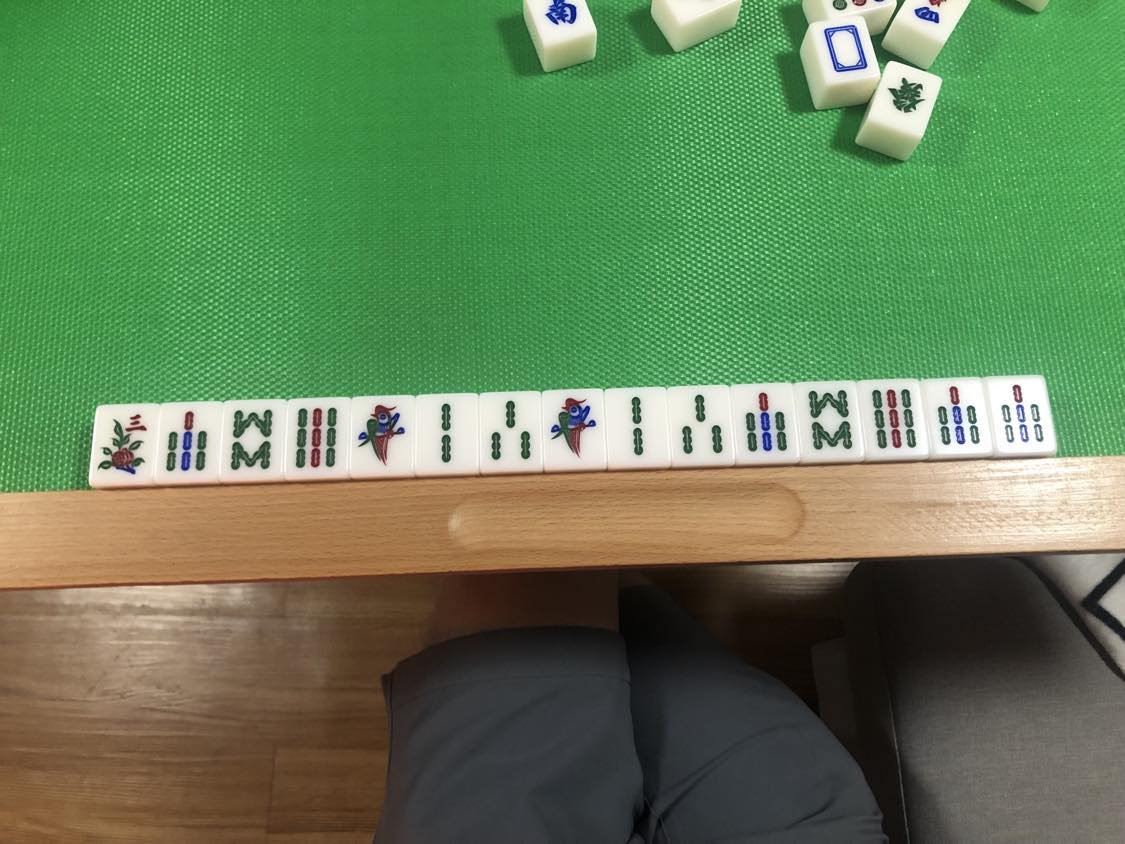bamboo-eight: (801, 385, 858, 455), (227, 404, 277, 477)
bamboo-nine: (861, 383, 925, 456), (288, 402, 344, 474)
bamboo-one: (351, 400, 409, 475), (545, 394, 601, 467)
bamboo-seven: (159, 405, 218, 480), (737, 388, 792, 458), (996, 381, 1047, 450), (938, 382, 983, 451)
bamboo-three: (670, 392, 730, 461), (481, 397, 538, 467)
bamboo-two: (418, 398, 473, 471), (608, 393, 662, 463)
flower-red_three: (96, 406, 150, 481)
